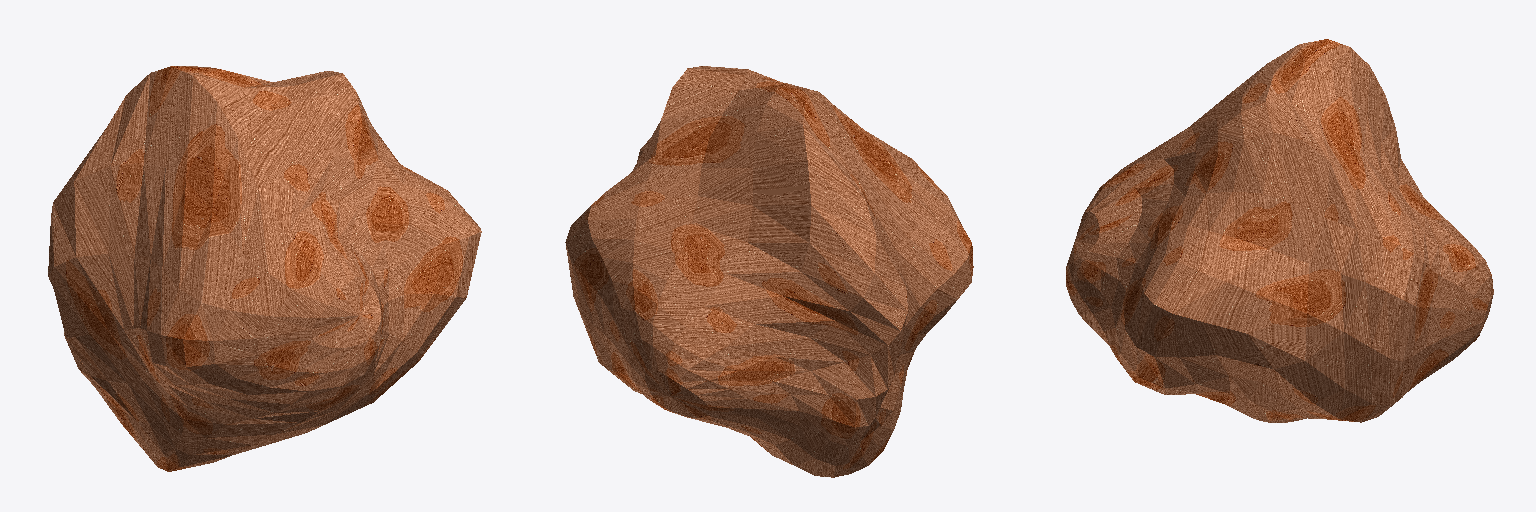
The picture shows the model from 3 angles: view 1: azimuth 30°, elevation 25°; view 2: azimuth 150°, elevation 25°; view 3: azimuth 270°, elevation 25°; orthographic projection.
Visible parts, largest first — view 1: pSphere1; view 2: pSphere1; view 3: pSphere1.
Boxes of the visible parts, x1=… form: pSphere1: x1=48, y1=66, x2=481, y2=471; pSphere1: x1=565, y1=66, x2=973, y2=477; pSphere1: x1=1066, y1=39, x2=1493, y2=422.
Bounding box in the file's own units: 2.34 × 2.45 × 2.54.
Materials: 1 (1 with a texture image).